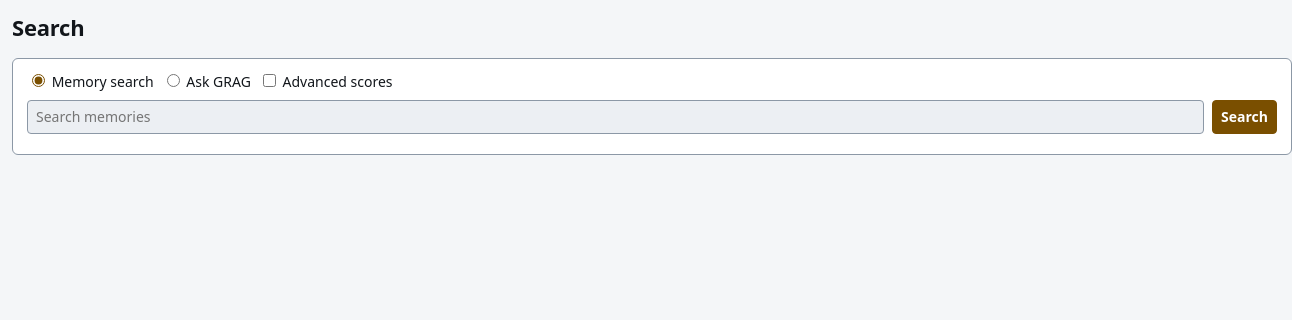
Test: Ask GRAG renders markdown answers instead of raw text
The image size is (1292, 320).
Click the radio button labelled "Ask GRAG": (173, 80) [167,74,180,87]
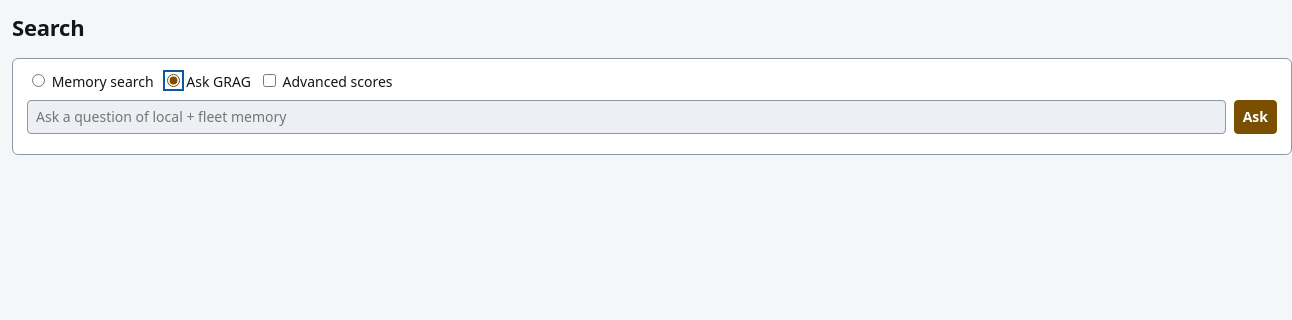
In the search field: (626, 117) [27,100,1226,134], type "what next?"
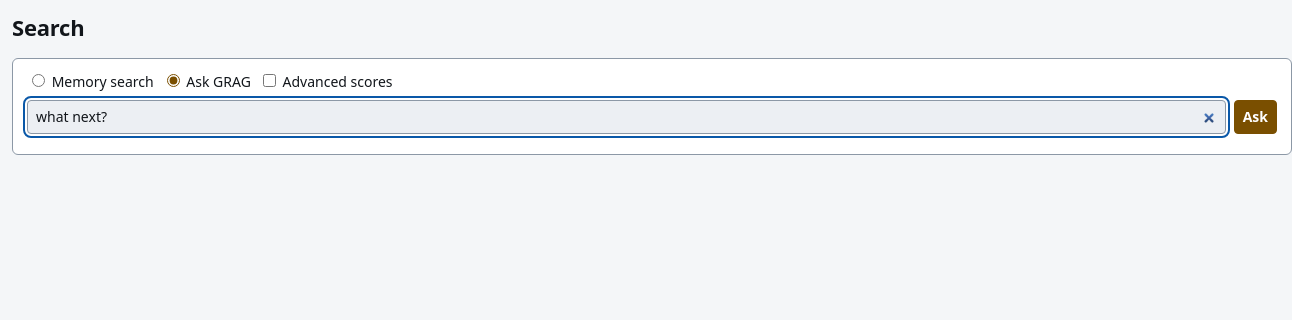
Click the button "Ask": (1255, 117) [1234,100,1277,134]
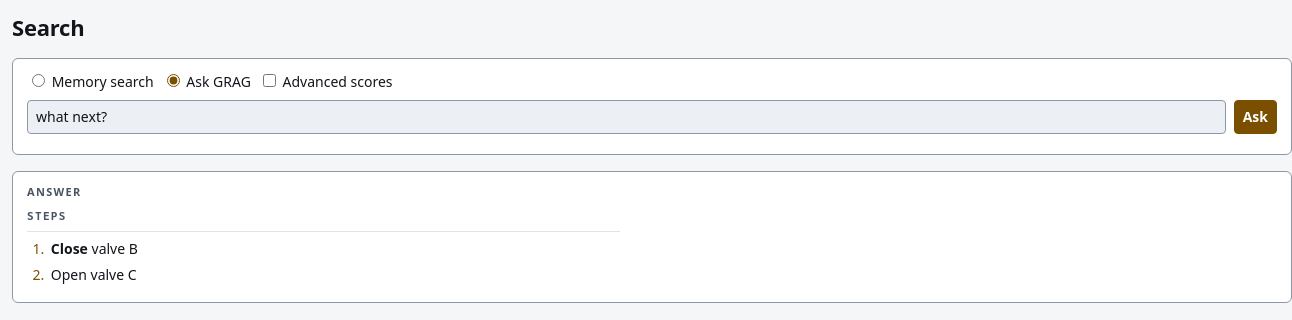
Expected: the heading "Steps" is shown, [27,208,620,232]
Expected: the number of list items is 2, [51,239,138,258]; [51,265,137,284]
